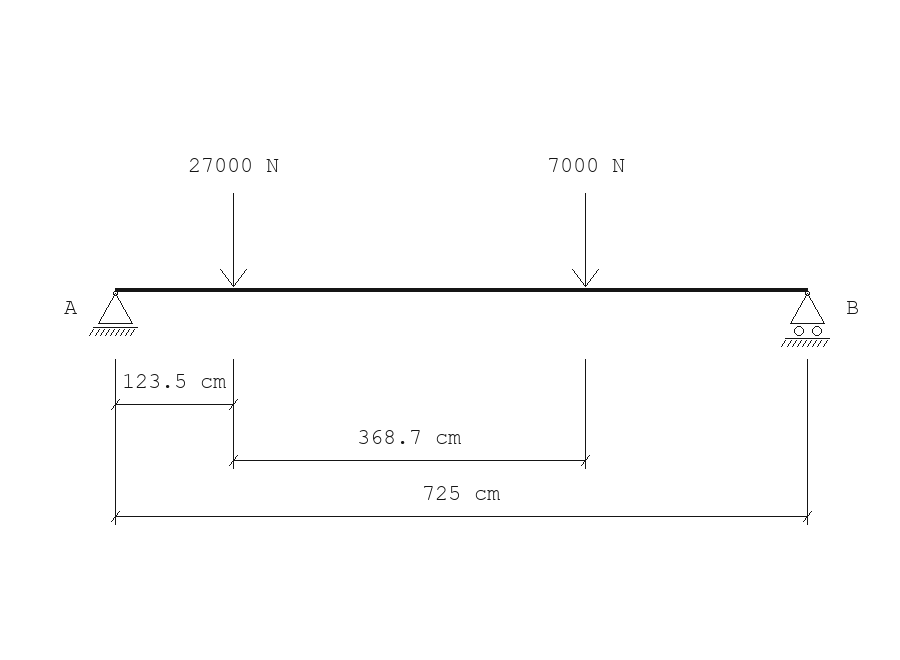pin_support: (89, 291, 138, 336)
point_load: (220, 193, 247, 287), (572, 193, 599, 287)
roller_support: (781, 291, 830, 347)
